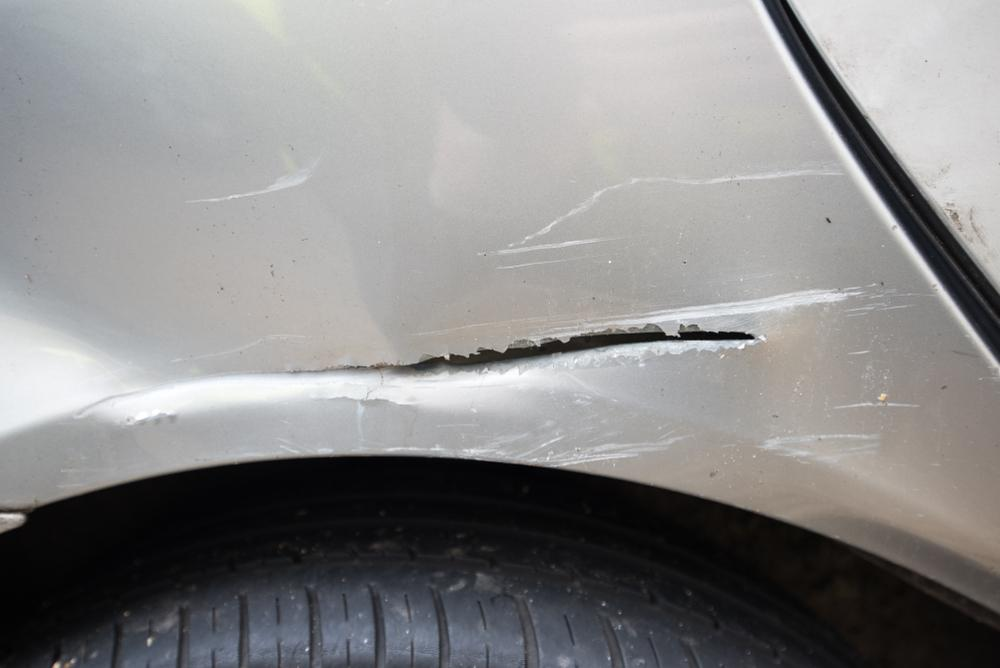crack: (268, 329, 759, 381)
scratch: (457, 280, 931, 469), (477, 156, 845, 268)
